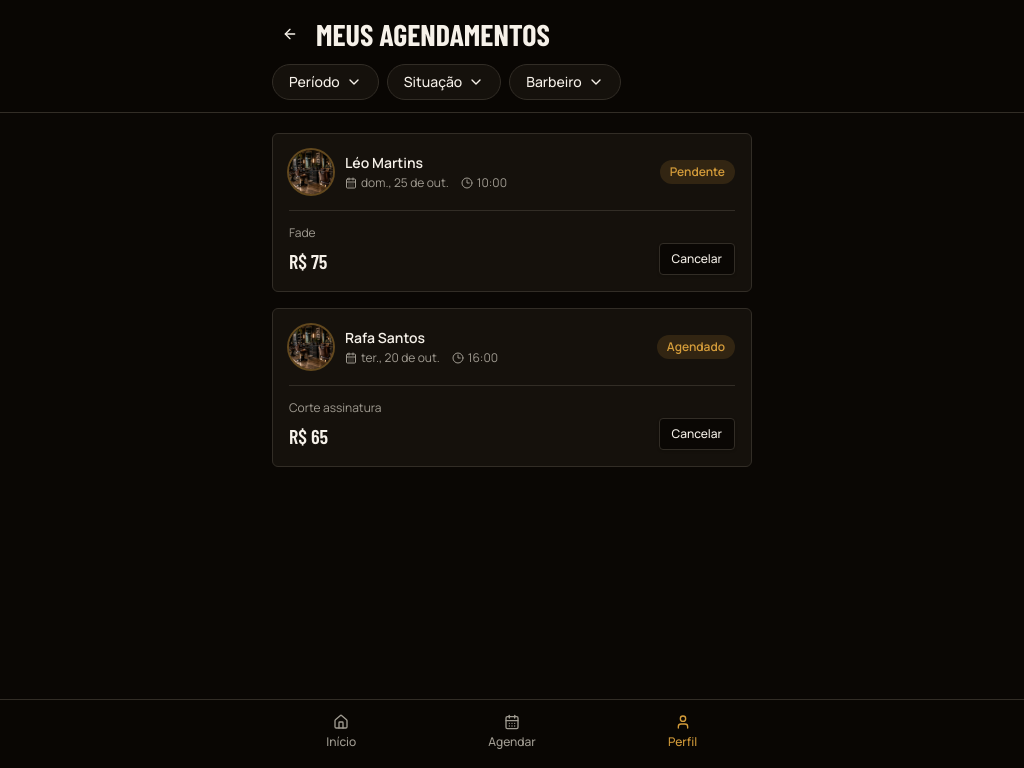
Test: ClientAppointments › opens the period filter sheet
The width and height of the screenshot is (1024, 768).
Step 1. Click the button "Período" → point(325, 82), box [272,64,379,100]
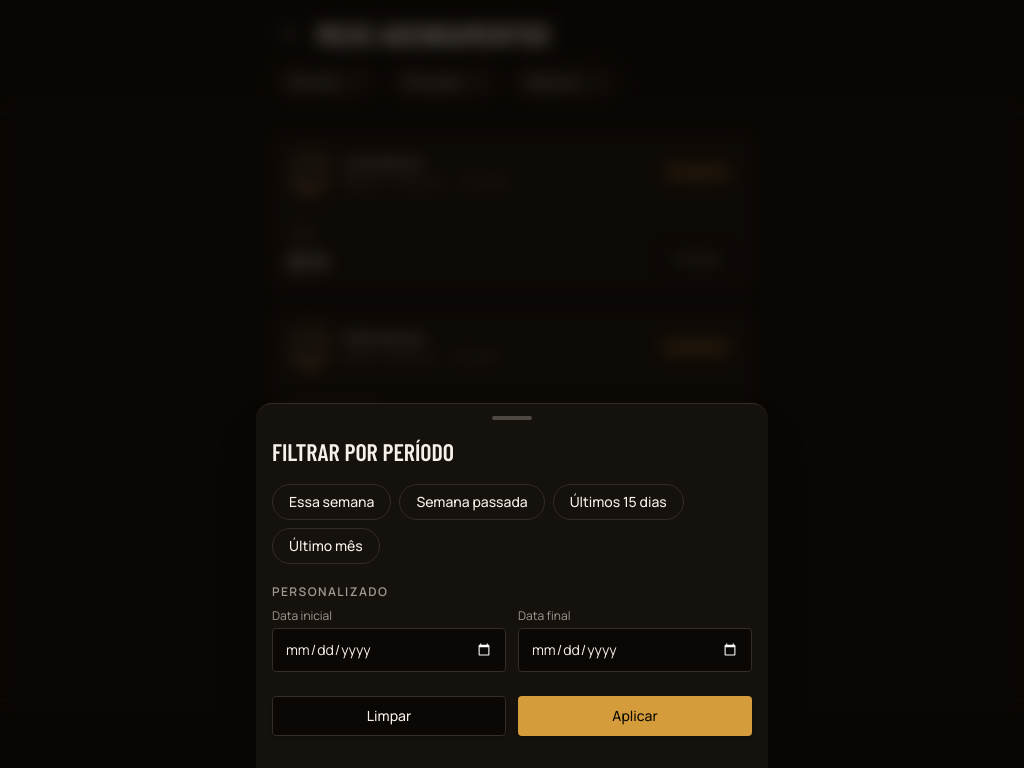
expect the dialog is shown: met
expect the text "Filtrar por período" is shown: met, box [272,437,454,466]
